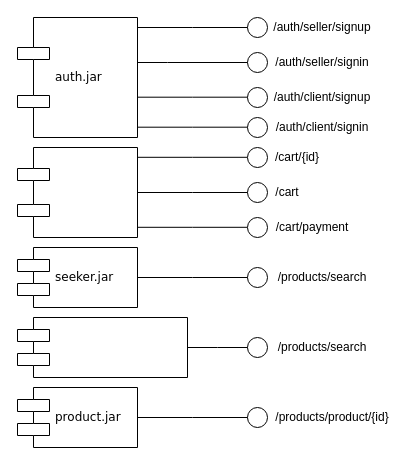
Image size: 406x465. Some labels were removed from this diagram. The box of each missing label's shape, as (x1, y1, x2, y2) in pixels:
cart.jar: (16, 146, 138, 238)
seekerMiddleware.jar: (16, 316, 188, 378)
